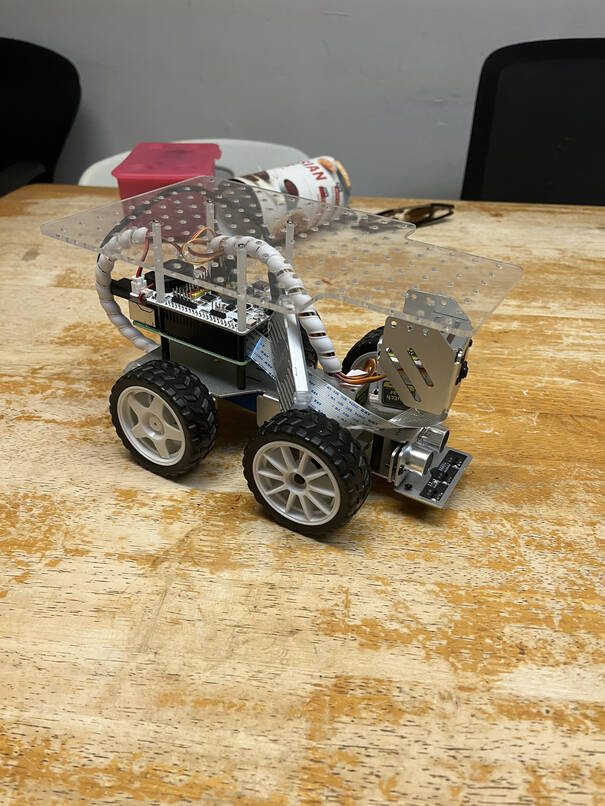vehicle: (39, 176, 527, 541)
